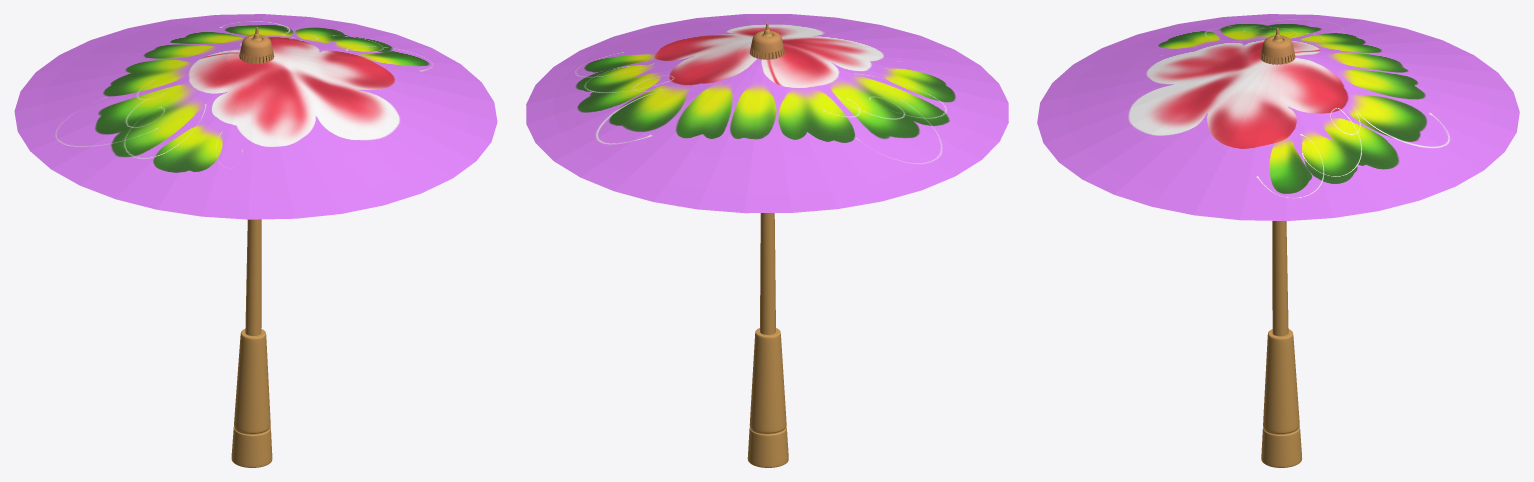
File: Umbelra.glb
3 renders of one model, left to right at view 1: azimuth 30°, elevation 25°; view 2: azimuth 150°, elevation 25°; view 3: azimuth 270°, elevation 25°, orthographic.
Parts seen in each view (by area): view 1: Circle, Cylinder, Cylinder.001, Cylinder.003; view 2: Circle, Cylinder, Cylinder.001, Cylinder.003; view 3: Circle, Cylinder, Cylinder.001, Cylinder.003.
Part boxes in pixels (box(x1,y1,x2,y2)): Circle: box(14, 14, 497, 219); Cylinder: box(231, 329, 272, 467); Cylinder.001: box(245, 27, 262, 335); Cylinder.003: box(239, 34, 274, 63); Circle: box(526, 14, 1008, 213); Cylinder: box(747, 328, 788, 467); Cylinder.001: box(760, 23, 775, 334); Cylinder.003: box(749, 30, 784, 59); Circle: box(1037, 14, 1519, 220); Cylinder: box(1261, 329, 1302, 467); Cylinder.001: box(1272, 28, 1288, 336); Cylinder.003: box(1260, 35, 1295, 64).
Size of the model in its own units: 34.23 by 33.87 by 34.23.
3 materials, 1 textured.
